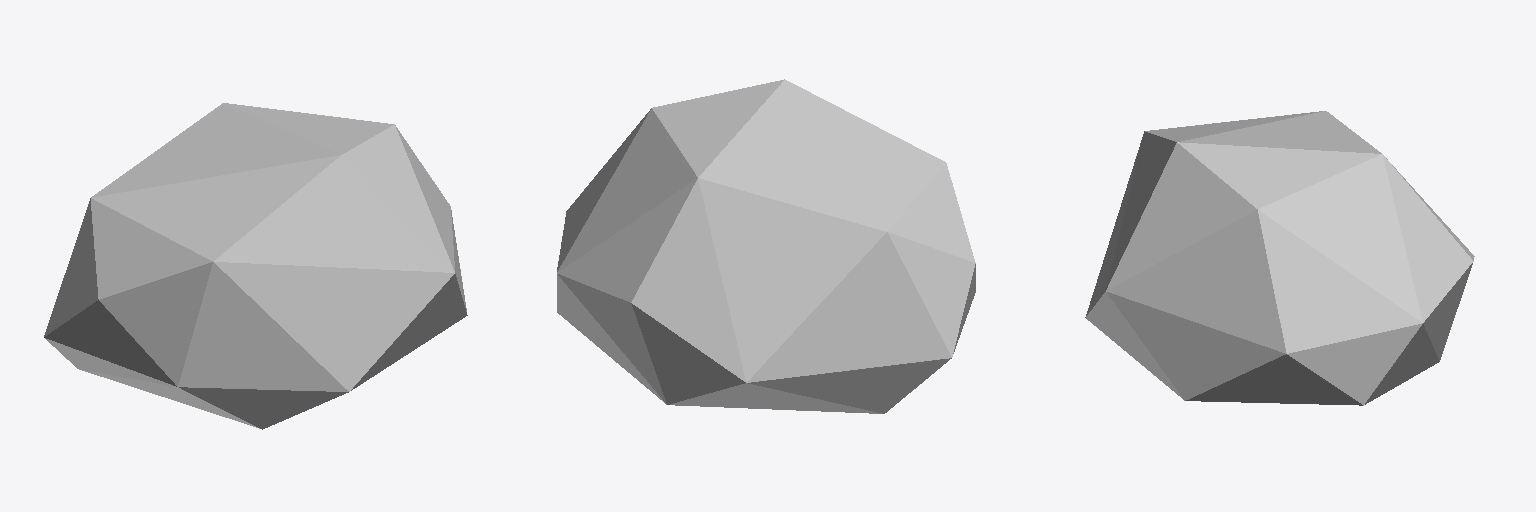
The model's file is Stone2.obj.
3 renders of one model, left to right at view 1: azimuth 30°, elevation 25°; view 2: azimuth 150°, elevation 25°; view 3: azimuth 270°, elevation 25°, orthographic.
Parts seen in each view (by area): view 1: Cube; view 2: Cube; view 3: Cube.
Part boxes in pixels (left/top/right/bottom): Cube: left=44, top=103, right=467, bottom=429; Cube: left=557, top=79, right=975, bottom=413; Cube: left=1085, top=111, right=1474, bottom=405.
Size of the model in its own units: 1.55 by 0.9742 by 1.32.